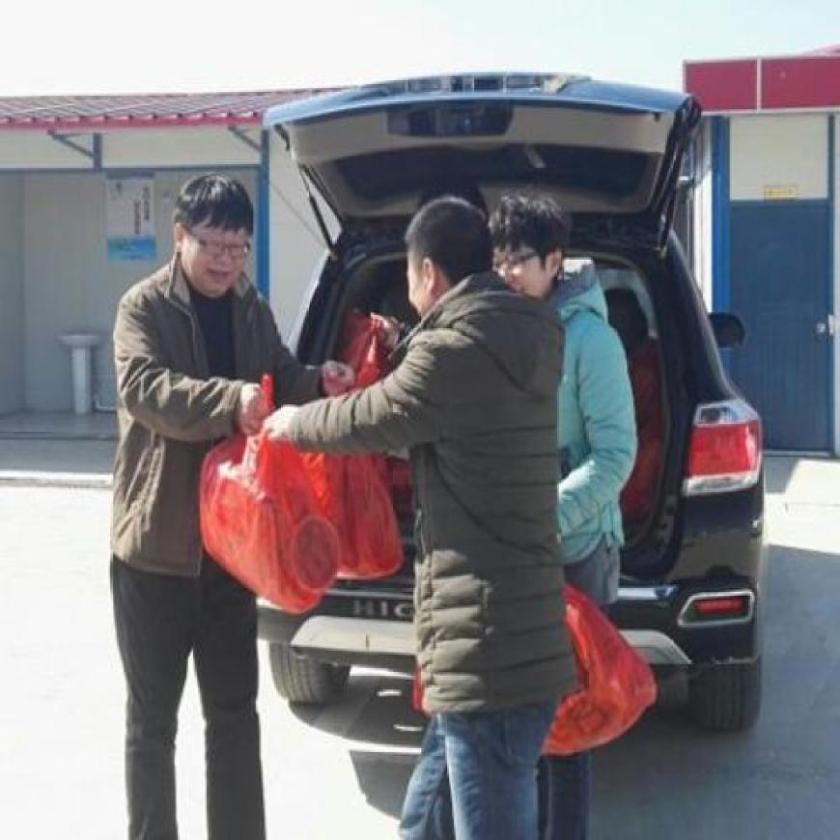Sin_casco: (401, 192, 499, 326), (169, 161, 259, 305), (486, 184, 572, 308)
